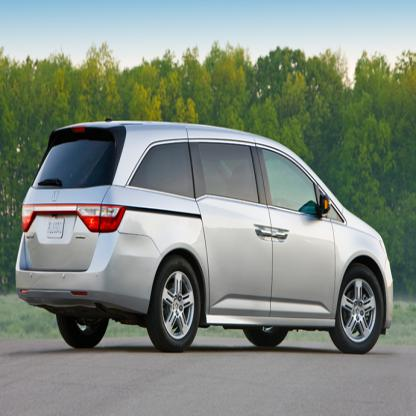Vehicle: (12, 117, 396, 358)
